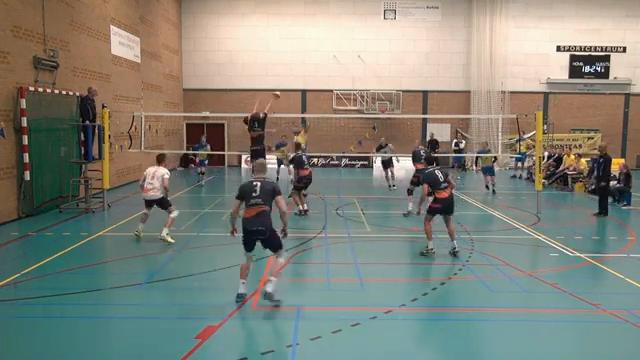attacco: (288, 115, 311, 152)
muro: (238, 94, 270, 166)
